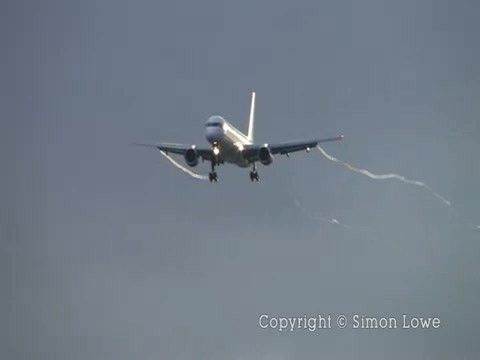aeroplane: (132, 91, 345, 184)
